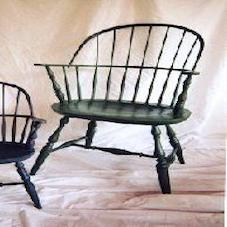chair: (30, 13, 202, 187)
